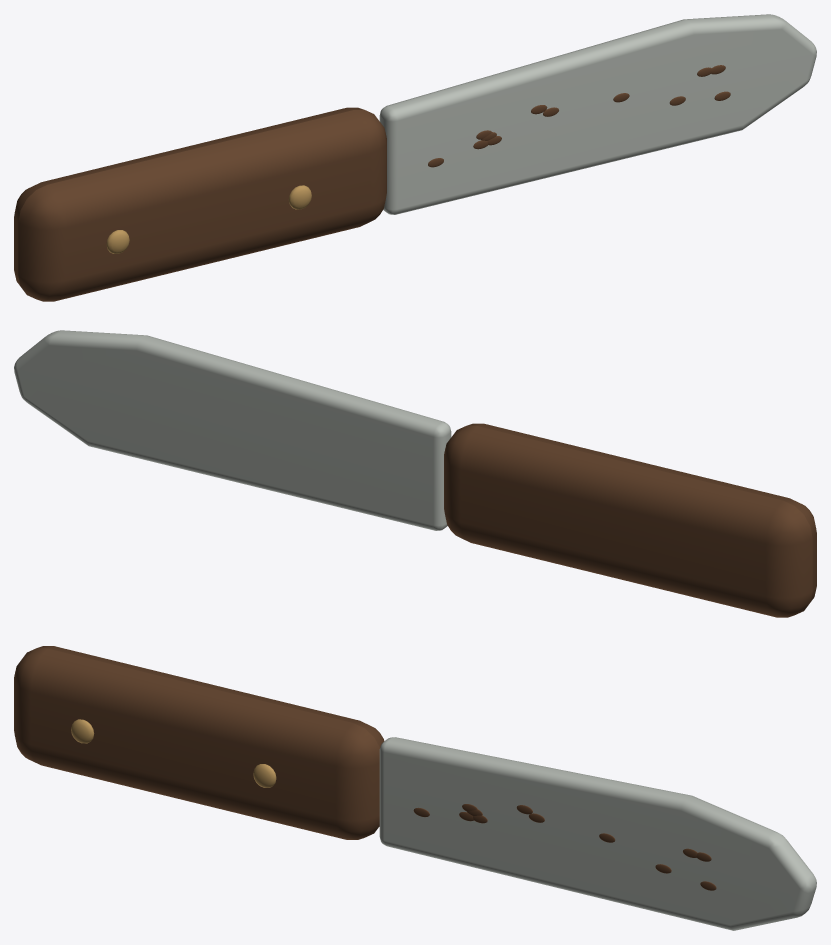
The model's file is rusty_butter.glb.
3 views of the same model, one above another, from view 1: azimuth 30°, elevation 25°; view 2: azimuth 150°, elevation 25°; view 3: azimuth 330°, elevation 25° (orthographic).
Parts seen in each view (by area): view 1: Rusty butter blade, Walnut handle; view 2: Rusty butter blade, Walnut handle; view 3: Rusty butter blade, Walnut handle.
Boxes of the visible parts, x1,y1,x2,y2 form: Rusty butter blade: [379, 14, 816, 214]; Walnut handle: [14, 107, 386, 301]; Rusty butter blade: [14, 330, 451, 530]; Walnut handle: [444, 423, 816, 617]; Rusty butter blade: [379, 737, 816, 930]; Walnut handle: [14, 646, 384, 839].
Bounding box in the file's own units: 1.75 × 0.255 × 0.144.
